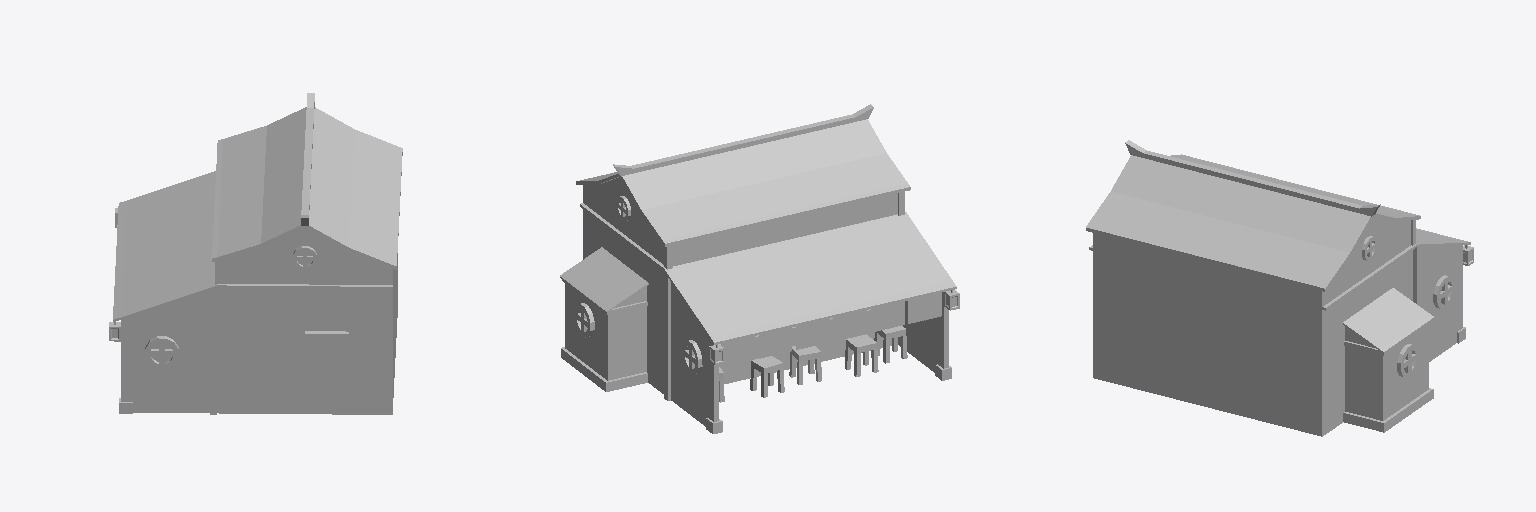
The model's file is kedai.obj.
3 renders of one model, left to right at view 1: azimuth 30°, elevation 25°; view 2: azimuth 150°, elevation 25°; view 3: azimuth 270°, elevation 25°, orthographic.
Visible parts, largest first — view 1: Cube.001; view 2: Cube.001; view 3: Cube.001.
Part boxes in pixels (x1,y1,x2,y2): Cube.001: (109, 93, 402, 414); Cube.001: (560, 104, 959, 433); Cube.001: (1086, 140, 1473, 436).
Bounding box in the file's own units: 11.75 × 6.7 × 11.68.